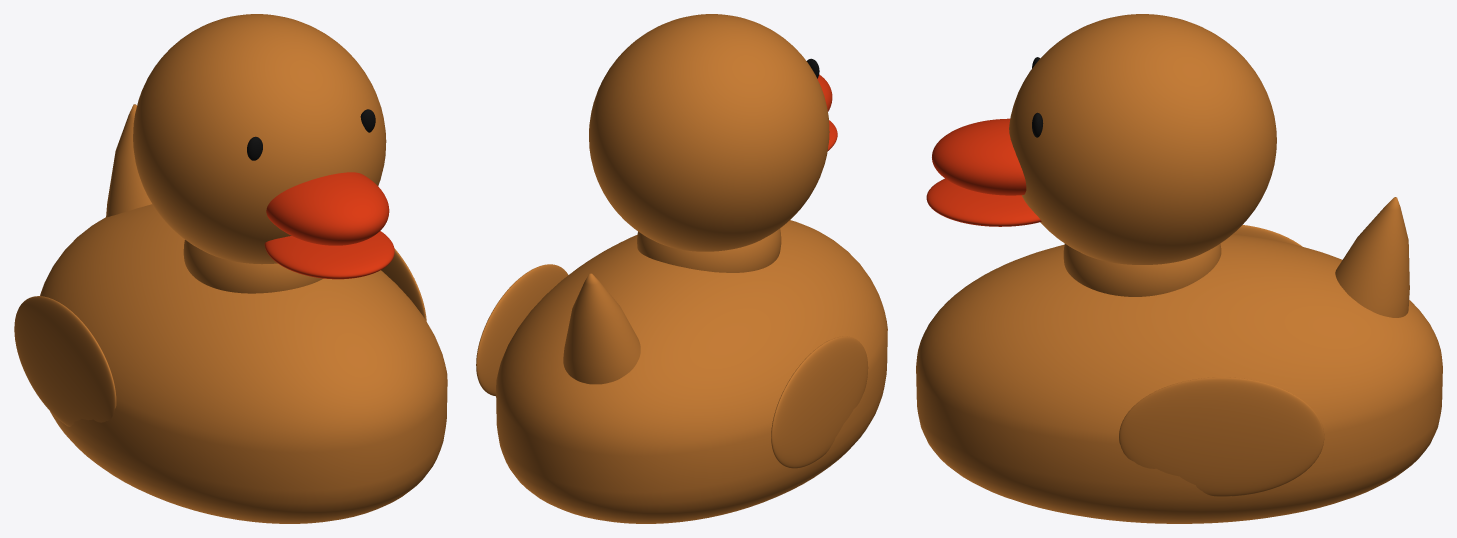
Rendered from result.glb.
The picture shows the model from 3 angles, left to right: view 1: azimuth 30°, elevation 25°; view 2: azimuth 150°, elevation 25°; view 3: azimuth 270°, elevation 25°; orthographic projection. The views are drawn at different scales.
Parts seen in each view (by area): view 1: Body, head, Wing -1, Neck, Tail, Wing 1; view 2: Body, head, Wing -1, Tail, Wing 1, Neck; view 3: Body, head, Wing 1, Tail, Neck.
Boxes of the visible parts, x1,y1,x2,y2 form: Body: [40, 204, 447, 523]; head: [133, 14, 394, 279]; Wing -1: [14, 296, 116, 426]; Neck: [183, 240, 322, 293]; Tail: [106, 104, 151, 217]; Wing 1: [381, 248, 426, 321]; Body: [496, 220, 887, 523]; head: [589, 14, 837, 251]; Wing -1: [771, 336, 868, 468]; Tail: [563, 273, 640, 384]; Wing 1: [476, 264, 568, 396]; Neck: [637, 228, 781, 272]; Body: [916, 234, 1442, 523]; head: [926, 14, 1276, 264]; Wing 1: [1119, 377, 1324, 496]; Tail: [1335, 197, 1409, 317]; Neck: [1063, 243, 1221, 296].
Size of the model in its own units: 0.72 by 0.94 by 1.
Materials: 8 (8 with a texture image).
